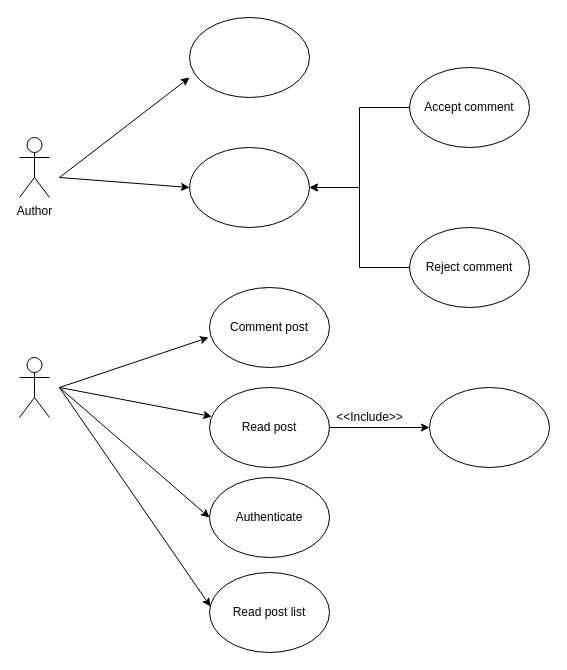
Image size: 567x670. Some labels were removed from this diagram. The box of each missing label's shape, as (x1, y1, x2, y2) in pixels:
Create post: (188, 16, 310, 98)
Moderate comment: (188, 146, 310, 228)
Read comments: (428, 386, 550, 468)
Visitor: (18, 356, 50, 418)
